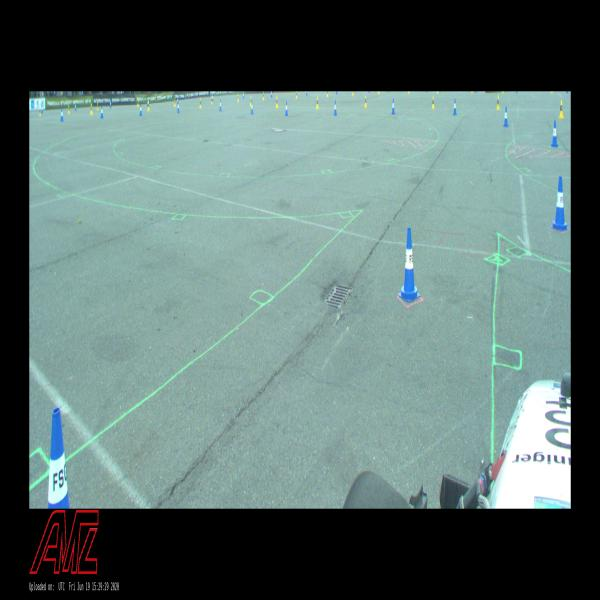blue_cone: (48, 406, 69, 509), (398, 227, 420, 302), (550, 176, 569, 231), (551, 120, 558, 147), (504, 107, 508, 126), (453, 99, 457, 115), (391, 99, 395, 114), (60, 109, 64, 122), (250, 101, 254, 114), (334, 100, 337, 116), (100, 106, 104, 118), (285, 101, 288, 116), (219, 98, 222, 112), (177, 102, 180, 113), (140, 104, 142, 115), (42, 105, 44, 113), (177, 97, 179, 104), (306, 91, 308, 96), (75, 102, 76, 111), (110, 100, 111, 108), (271, 91, 272, 97), (243, 92, 244, 98)
yellow_cone: (559, 100, 564, 119), (497, 95, 500, 109), (316, 96, 319, 110), (364, 94, 367, 108), (432, 96, 435, 109), (90, 104, 93, 114), (147, 101, 150, 111), (276, 96, 278, 108), (200, 98, 202, 108), (250, 96, 252, 106), (238, 94, 240, 102), (97, 102, 99, 110), (211, 96, 213, 104), (39, 108, 41, 116), (174, 99, 176, 106), (296, 92, 298, 98), (68, 104, 69, 114), (352, 91, 354, 96), (263, 92, 264, 100), (138, 99, 139, 107), (327, 91, 328, 97)
